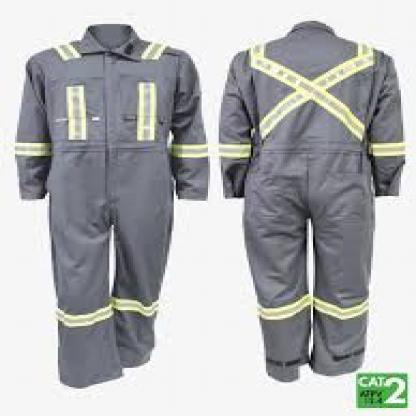vest: (11, 38, 210, 340), (222, 33, 410, 338)
